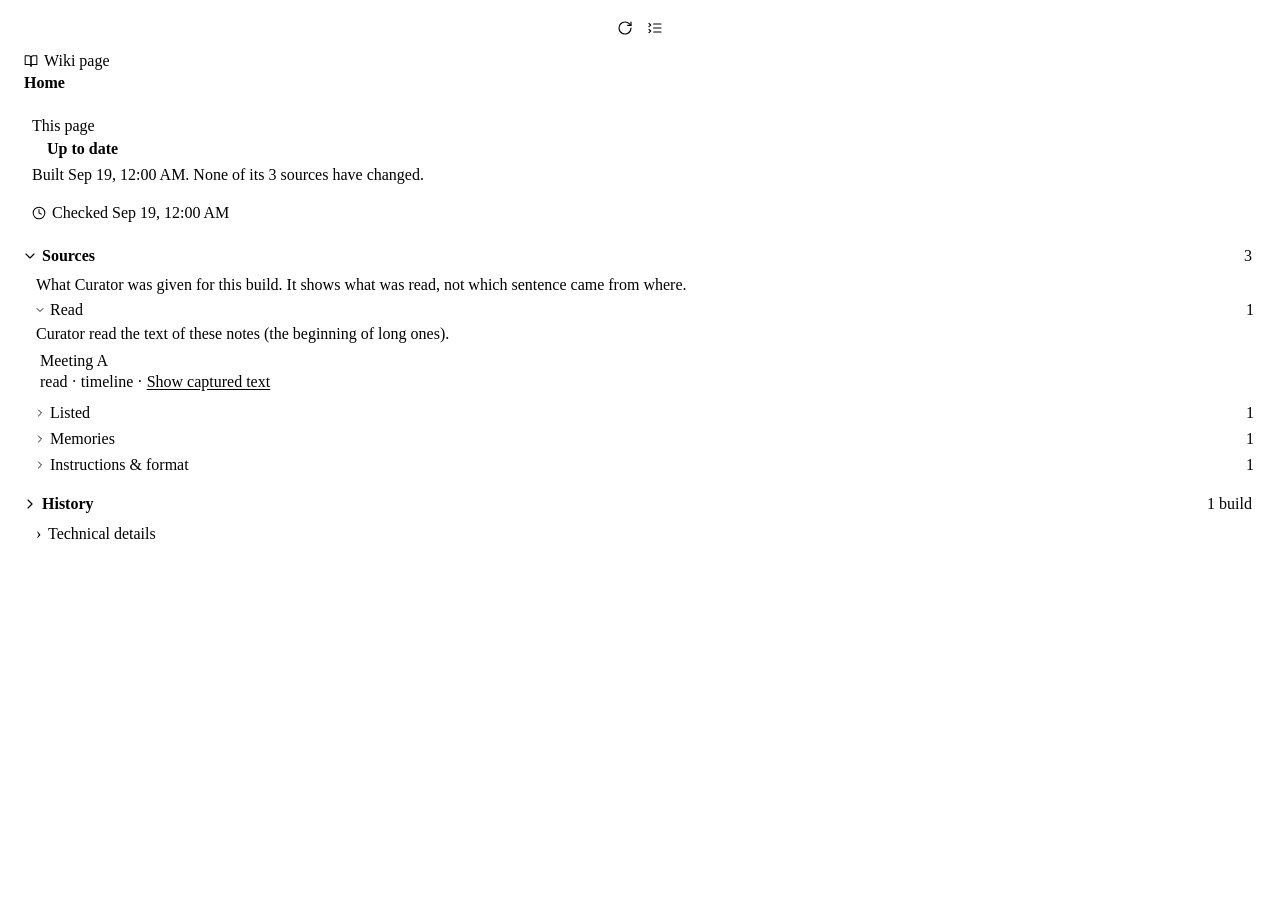
Scenario: groups sources by how they were used and keeps exact metadata in technical details
Check: the button "Meeting A" is shown, box [40, 352, 108, 370]
Check: the text "read · timeline · Show captured text" is shown, box [40, 371, 270, 394]
Click the heading "Technical details" at (96, 534), box [36, 524, 156, 542]
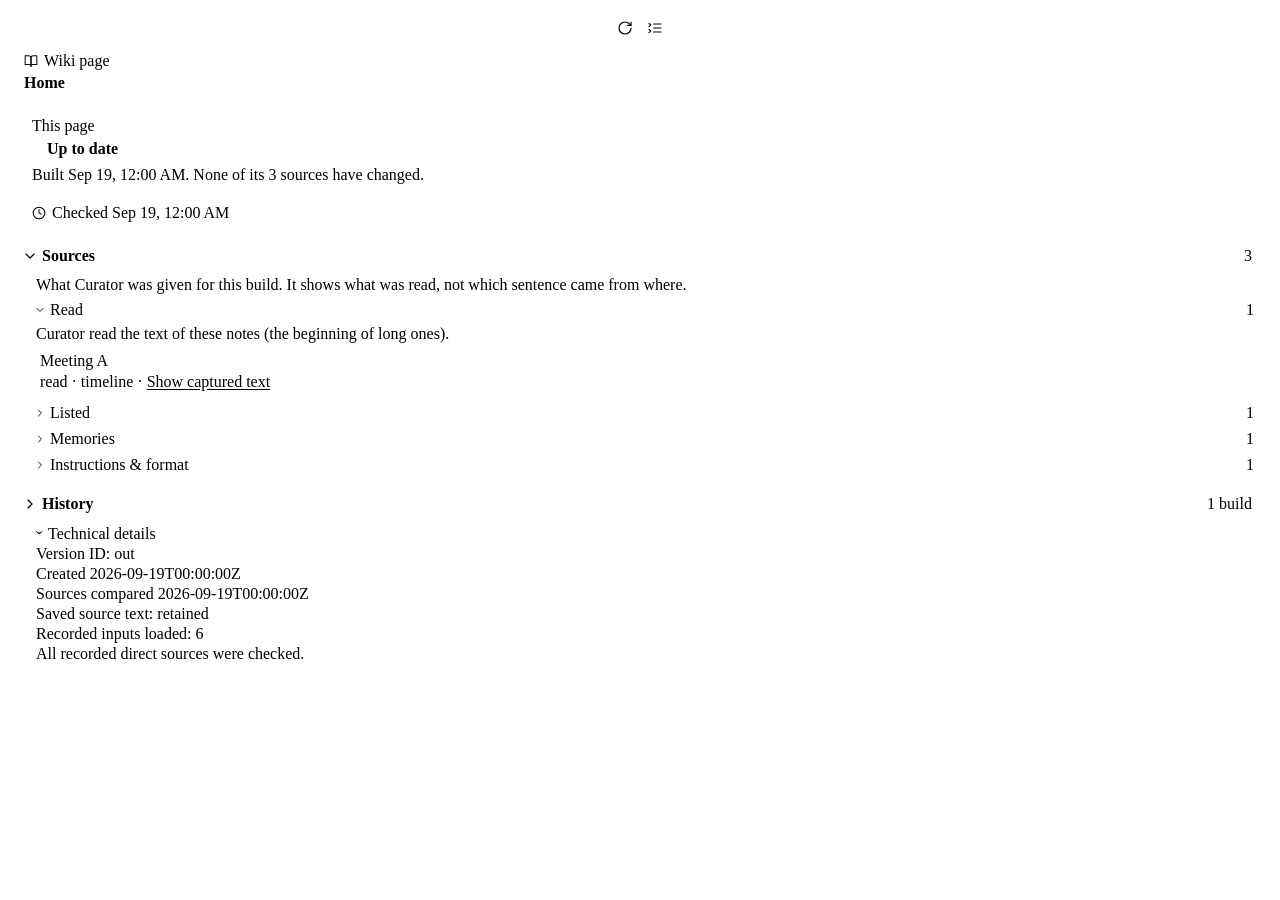
Check: the text "out" is shown, box [114, 544, 135, 562]
Check: the text "All recorded direct sources were checked." is shown, box [36, 644, 304, 662]
